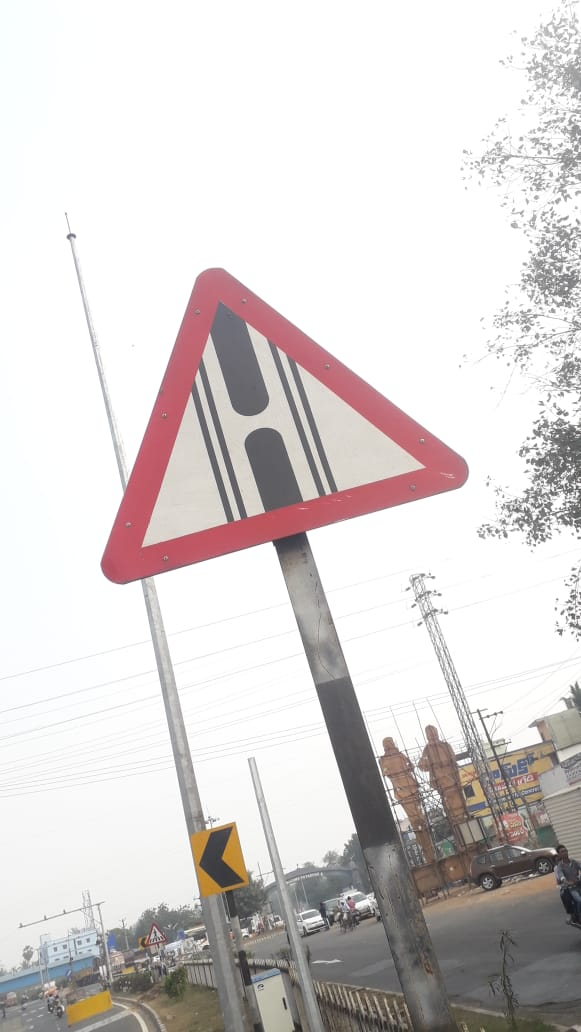highway go straight: (76, 262, 534, 548)
